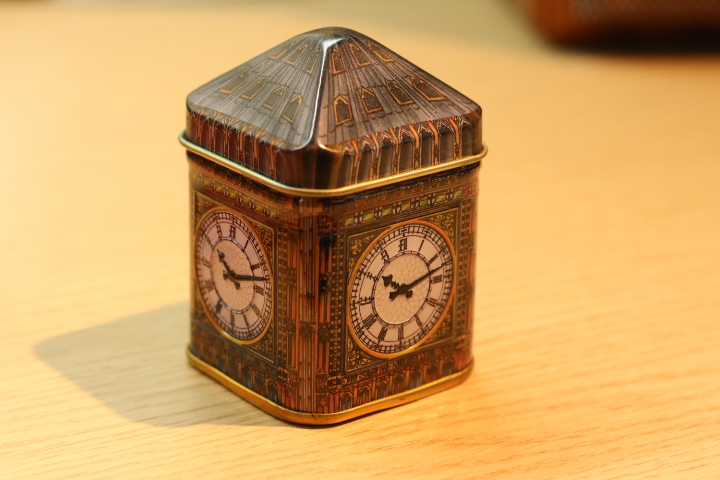Big Ben: (158, 20, 512, 440)
